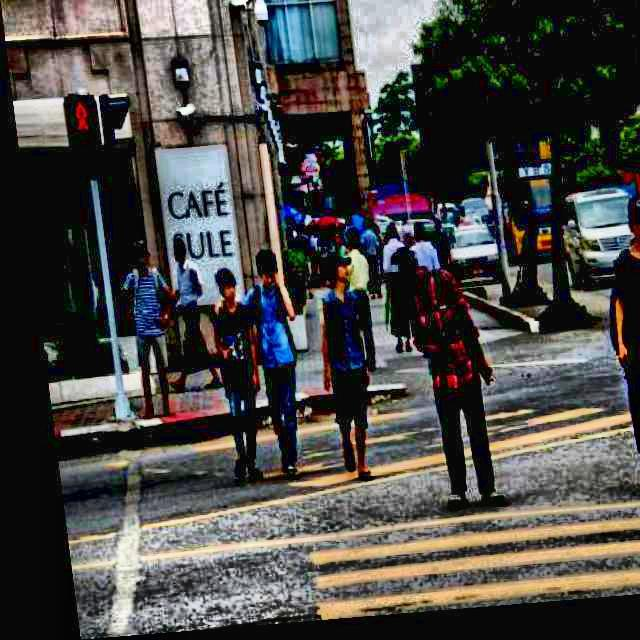semaforo pedestre: (47, 84, 115, 201)
